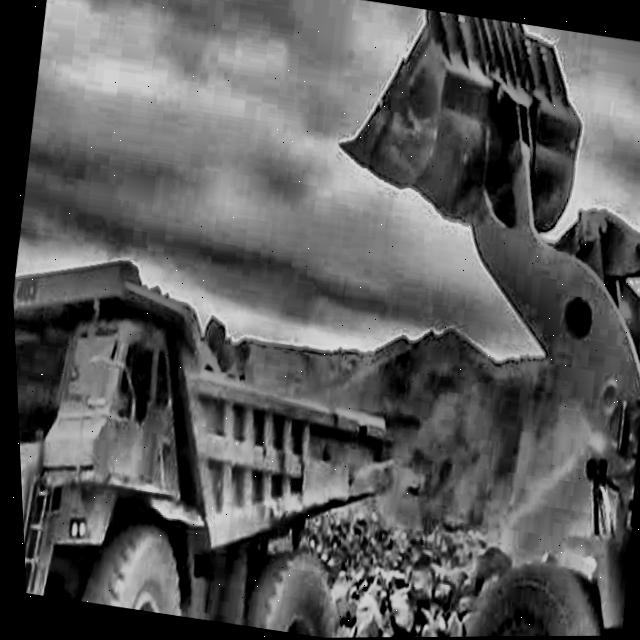buldozerpayloadergrader: (259, 0, 640, 638)
dump_truck: (8, 230, 417, 640)
